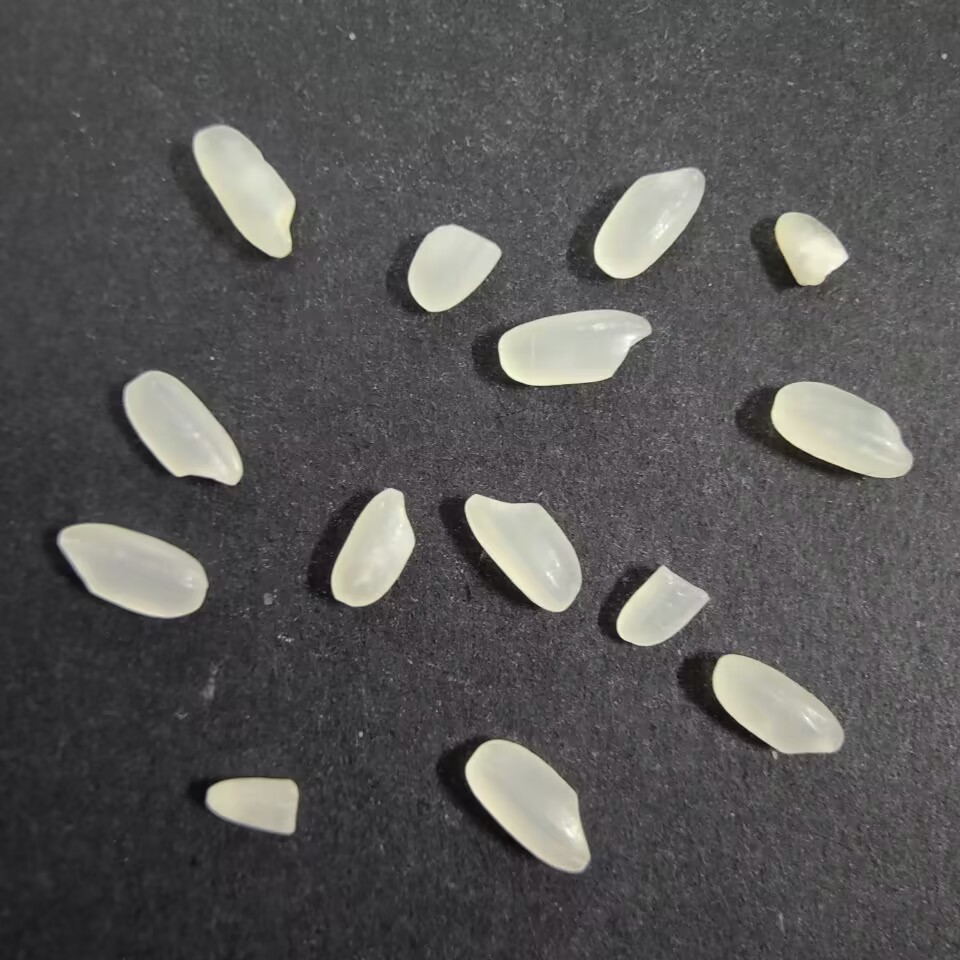broken: (404, 219, 506, 316), (615, 561, 710, 648), (775, 207, 849, 291), (202, 776, 303, 837)
rice: (464, 736, 594, 876), (54, 523, 213, 624), (461, 489, 586, 616), (189, 124, 302, 264), (119, 367, 244, 493), (709, 650, 847, 760), (769, 380, 917, 481), (591, 164, 705, 283), (496, 309, 652, 388), (327, 482, 416, 611)
